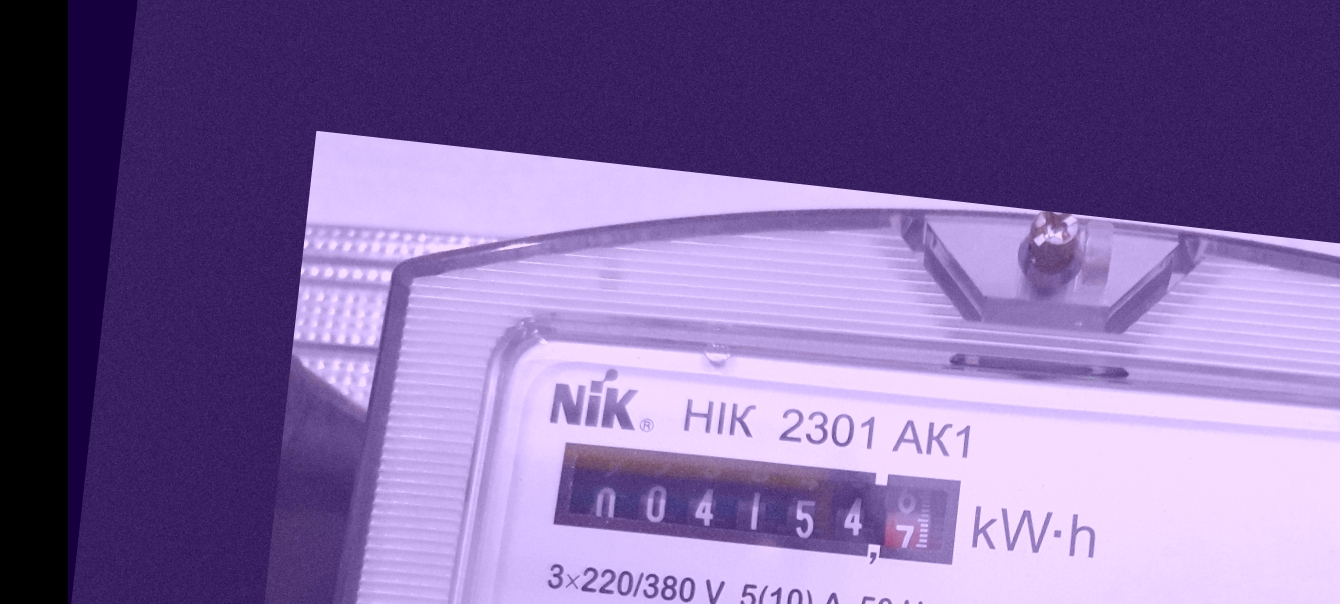0: (643, 480, 670, 524), (593, 481, 619, 518)
1: (747, 488, 764, 531)
4: (692, 484, 719, 527), (841, 492, 866, 537)
5: (791, 493, 820, 540)
6: (895, 483, 921, 515)
7: (892, 519, 916, 550)
screen: (537, 420, 980, 582)
